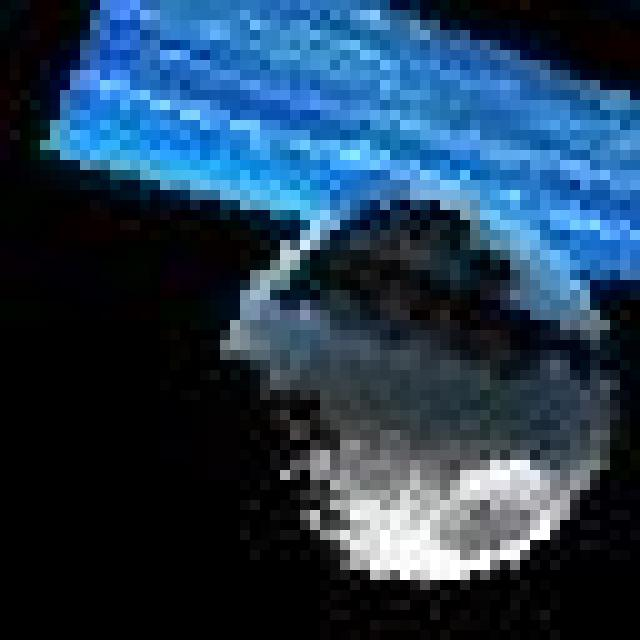Death Star: (225, 181, 634, 592)
